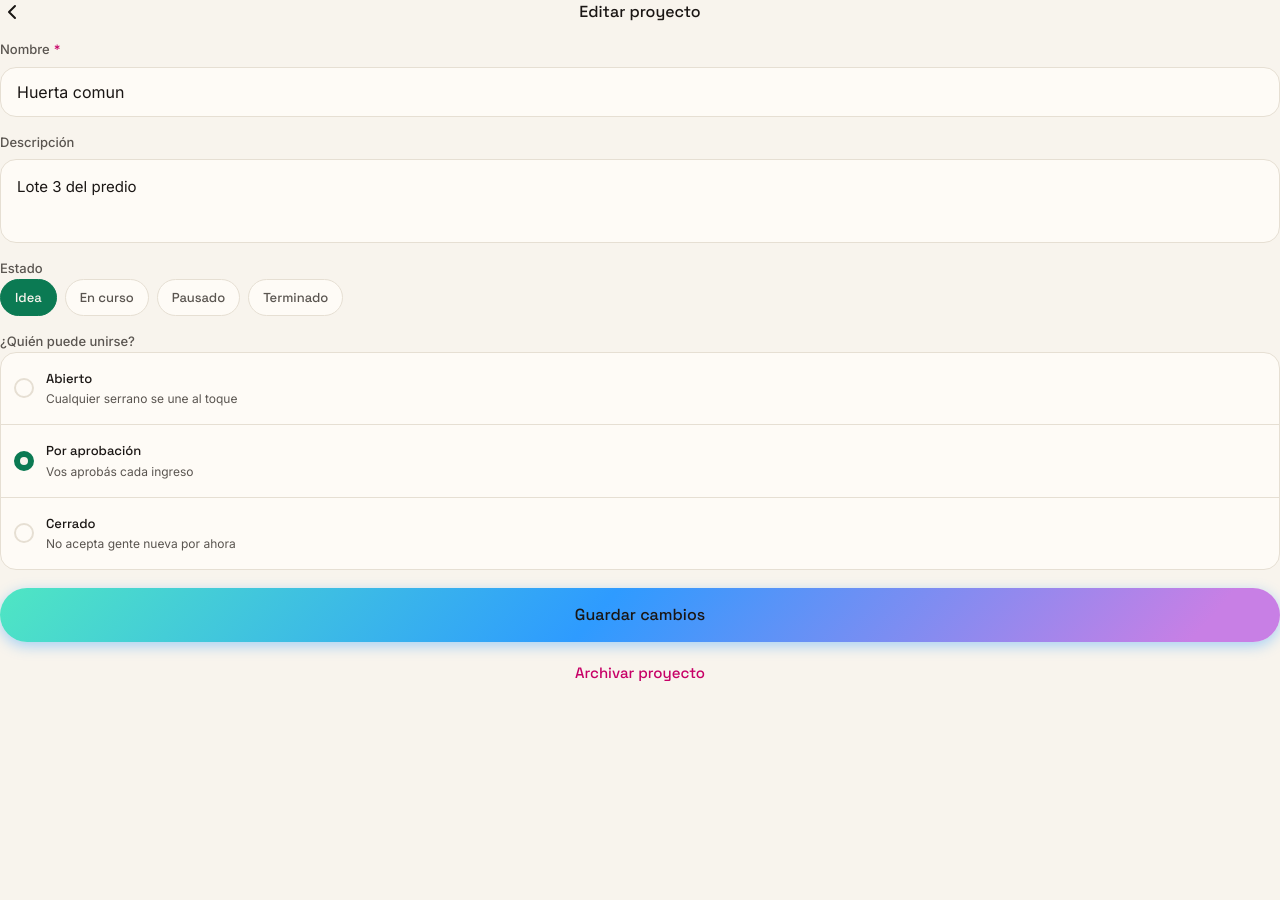
Test: EditProjectPage › archive confirmation (ZER-201) › asks with a single Sí, archivar button and no Volver
Click the button "Archivar proyecto": (640, 673) x1=575 y1=662 x2=705 y2=684
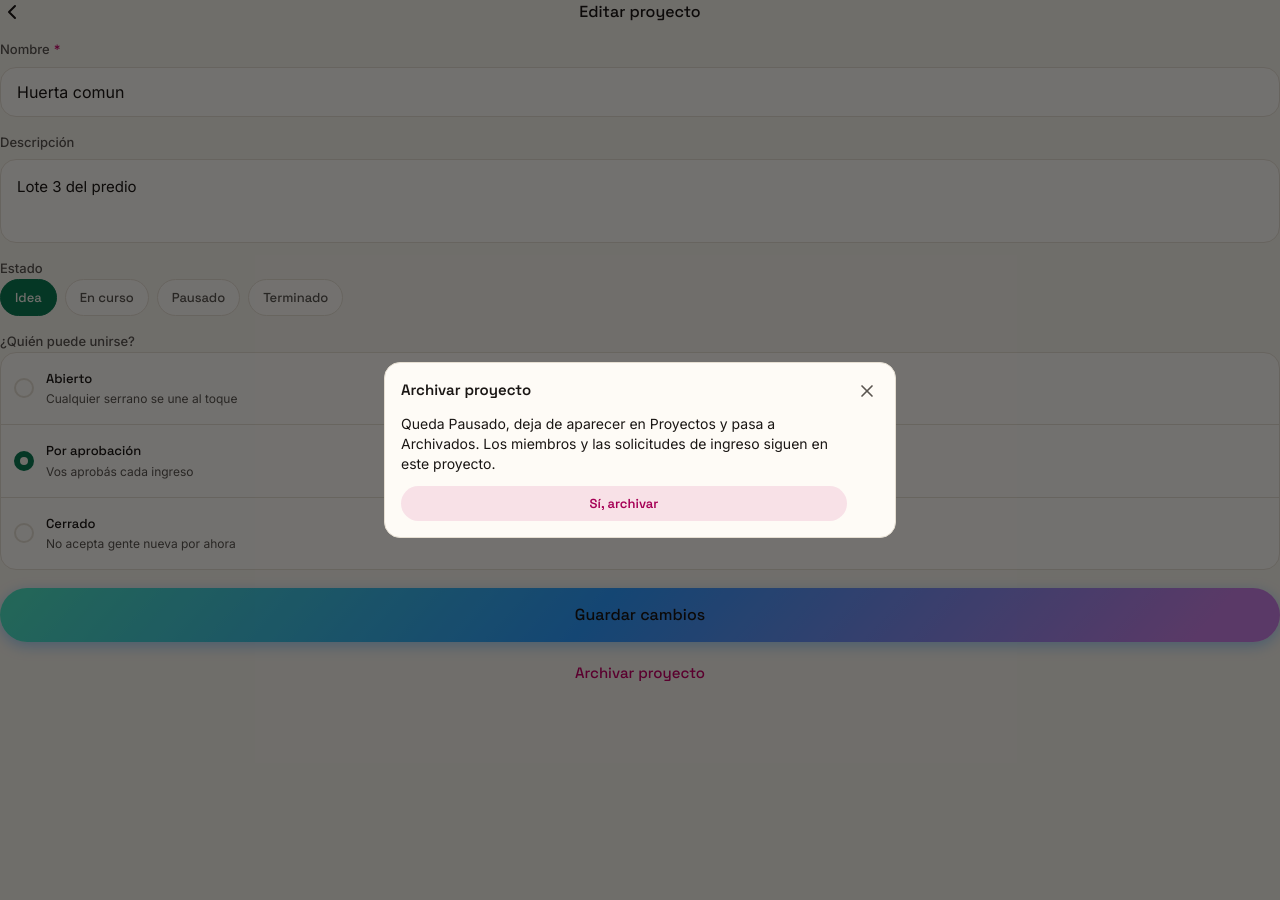
expect the button "Sí, archivar" is shown: met, box x1=401 y1=486 x2=847 y2=521
expect the text "miembros y las solicitudes" is shown: met, box x1=401 y1=414 x2=828 y2=472
